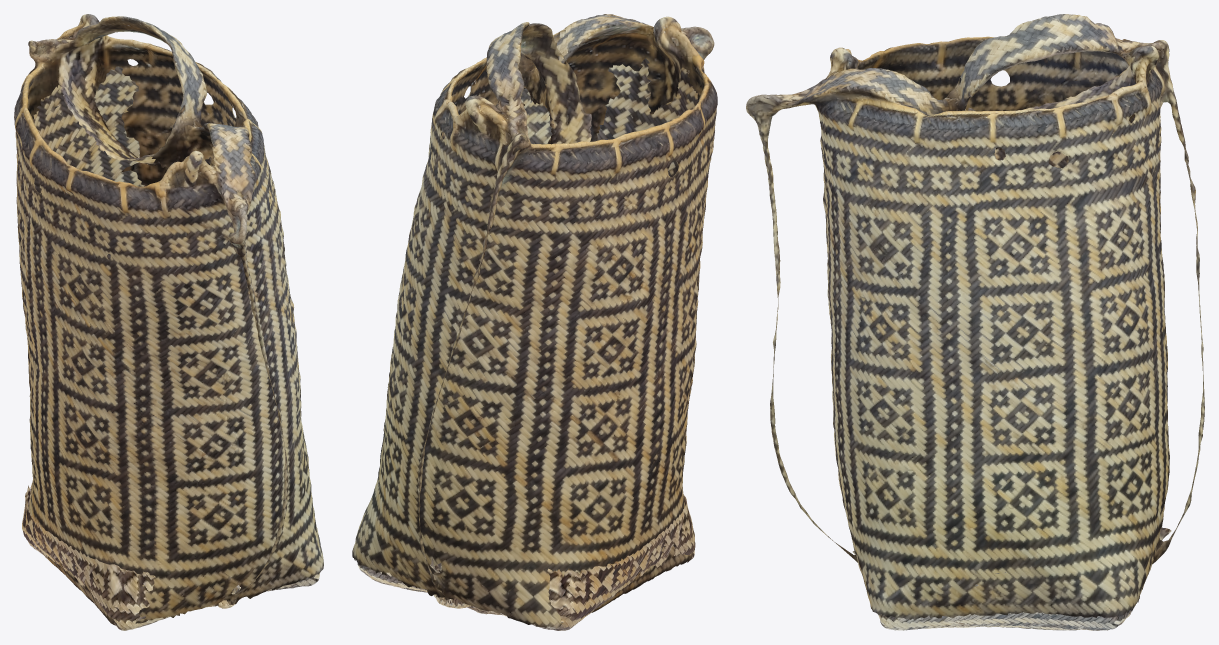
The picture shows the model from 3 angles, left to right: view 1: azimuth 30°, elevation 25°; view 2: azimuth 150°, elevation 25°; view 3: azimuth 270°, elevation 25°; orthographic projection. The views are drawn at different scales.
Visible parts, largest first — view 1: Stereo textured mesh.001, Stereo textured mesh; view 2: Stereo textured mesh.001, Stereo textured mesh; view 3: Stereo textured mesh.001, Stereo textured mesh.
Boxes of the visible parts, x1,y1,x2,y2 form: Stereo textured mesh.001: [14, 14, 323, 625]; Stereo textured mesh: [22, 483, 319, 630]; Stereo textured mesh.001: [352, 14, 717, 628]; Stereo textured mesh: [357, 495, 695, 630]; Stereo textured mesh.001: [746, 14, 1204, 619]; Stereo textured mesh: [852, 527, 1171, 630].
Bounding box in the file's own units: 0.352 × 0.7266 × 0.5143.
2 materials, 2 textured.
